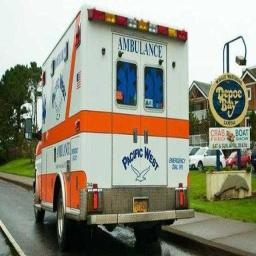Ambulance: (34, 5, 193, 248)
